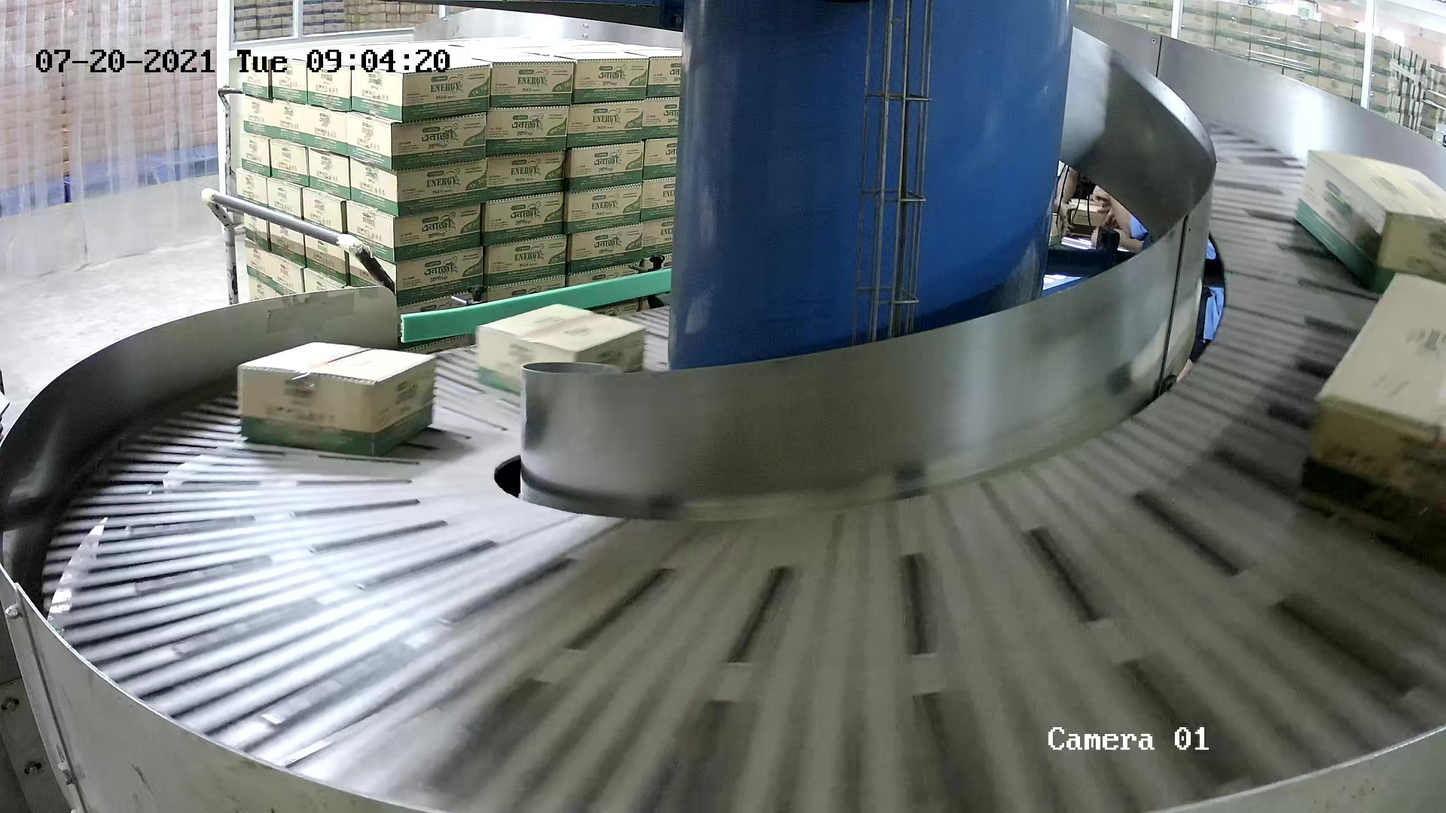Box: (1290, 268, 1446, 574), (236, 340, 438, 458), (1293, 149, 1446, 295), (475, 303, 646, 406)
